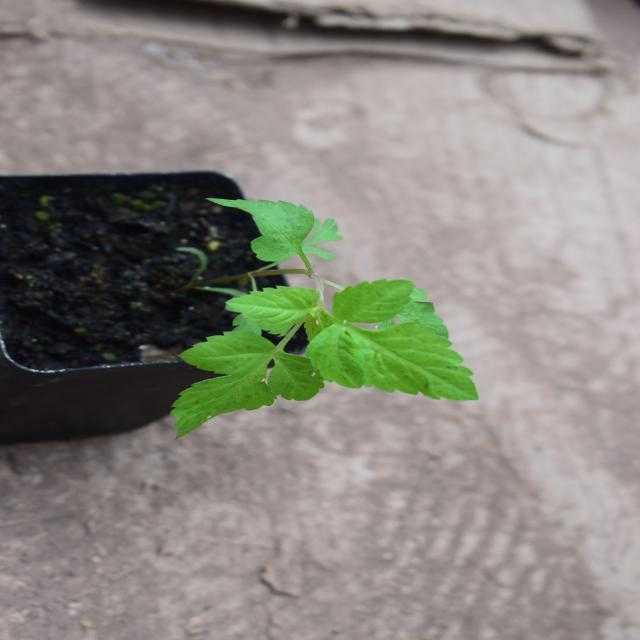Bidens pilosa: (183, 155, 445, 485)
